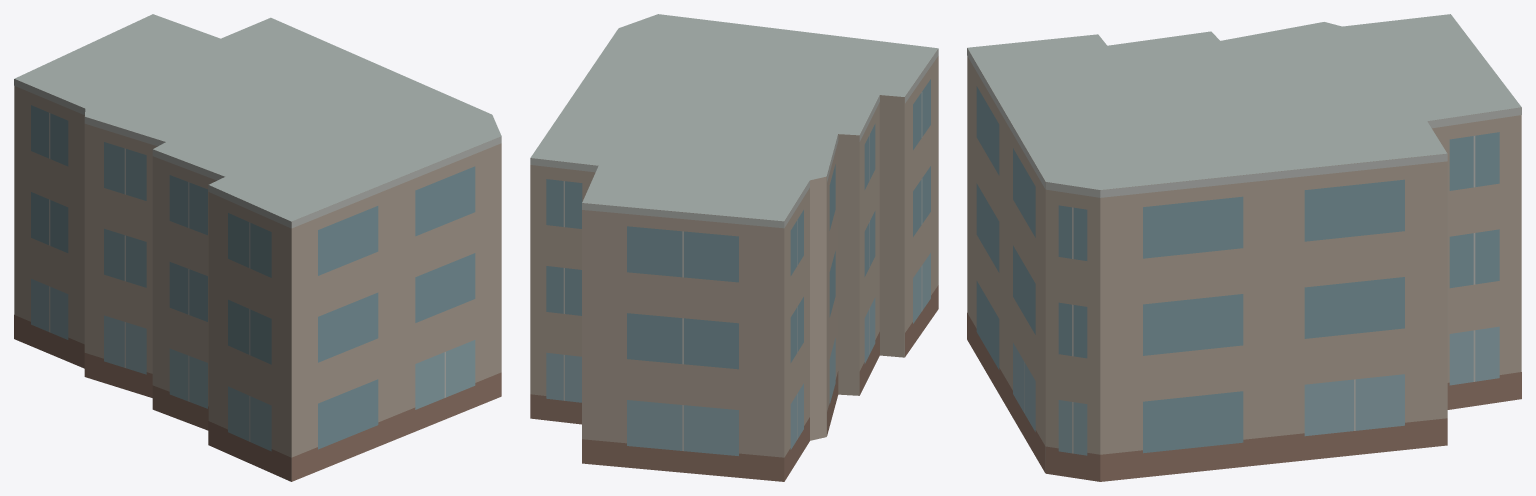
Rendered from survey-upis-32751742.glb.
3 views of the same model, side by side, from view 1: azimuth 30°, elevation 25°; view 2: azimuth 150°, elevation 25°; view 3: azimuth 270°, elevation 25° (orthographic). The views are drawn at different scales.
Visible parts, largest first — view 1: survey-upis-32751742.tmp; view 2: survey-upis-32751742.tmp; view 3: survey-upis-32751742.tmp.
Boxes of the visible parts, bbox=[...] form: survey-upis-32751742.tmp: bbox=[14, 14, 501, 481]; survey-upis-32751742.tmp: bbox=[530, 14, 938, 481]; survey-upis-32751742.tmp: bbox=[967, 14, 1521, 481].
Bounding box in the file's own units: 11.85 × 9.15 × 15.77.
